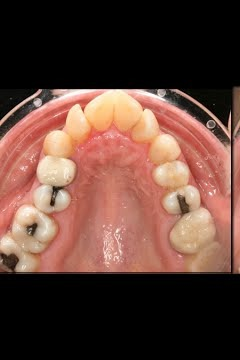UL1BC_healthy: (154, 160, 188, 190)
UL1M_healthy: (171, 212, 217, 251)
UL2BC_healthy: (163, 187, 201, 215)
ULCI_healthy: (116, 93, 142, 133)
ULC_healthy: (150, 137, 180, 162)
ULLI_healthy: (133, 111, 159, 145)
UR1BC_healthy: (38, 158, 77, 188)
UR1M_decay: (10, 205, 60, 251)
UR2BC_decay: (30, 186, 74, 212)
UR2M_decay: (1, 237, 38, 271)
URCI_healthy: (88, 92, 115, 130)
URC_healthy: (44, 131, 77, 159)
URLI_healthy: (65, 105, 87, 141)
